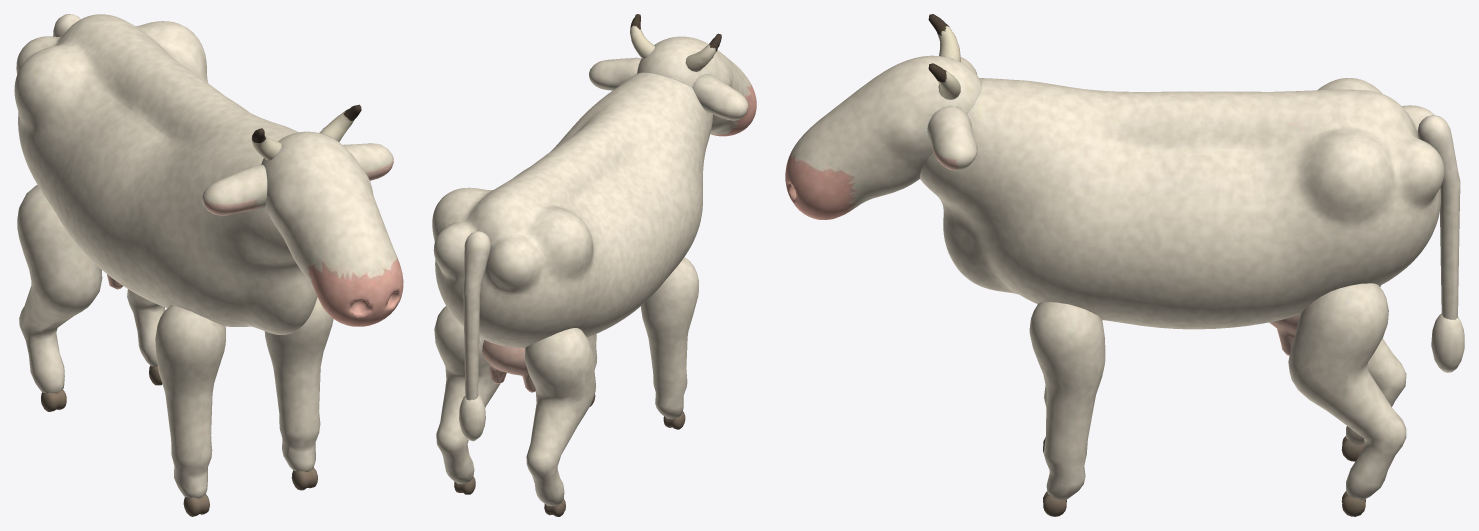
The model's file is animal_charolais.glb.
3 renders of one model, left to right at view 1: azimuth 30°, elevation 25°; view 2: azimuth 150°, elevation 25°; view 3: azimuth 270°, elevation 25°, orthographic. The views are drawn at different scales.
Visible parts, largest first — view 1: animal_charolais, head, leg2, leg0, leg1, leg3; view 2: animal_charolais, leg2, head, leg0, leg3, tail; view 3: animal_charolais, head, leg3, leg1, tail, leg2.
Part boxes in pixels (bbox=[...]): animal_charolais: bbox=[14, 14, 317, 334]; head: bbox=[202, 104, 403, 326]; leg2: bbox=[17, 185, 102, 411]; leg0: bbox=[155, 305, 225, 516]; leg1: bbox=[264, 297, 333, 490]; leg3: bbox=[127, 289, 165, 385]; animal_charolais: bbox=[432, 72, 712, 392]; leg2: bbox=[525, 328, 595, 516]; head: bbox=[589, 14, 756, 136]; leg0: bbox=[641, 257, 698, 429]; leg3: bbox=[434, 306, 500, 494]; tail: bbox=[459, 231, 490, 441]; animal_charolais: bbox=[920, 78, 1444, 355]; head: bbox=[785, 14, 981, 219]; leg3: bbox=[1288, 283, 1406, 516]; leg1: bbox=[1029, 302, 1105, 516]; tail: bbox=[1417, 115, 1464, 372]; leg2: bbox=[1341, 285, 1406, 461].
Bounding box in the file's own units: 0.3 × 0.6367 × 0.8776.
1 material, 1 textured.
